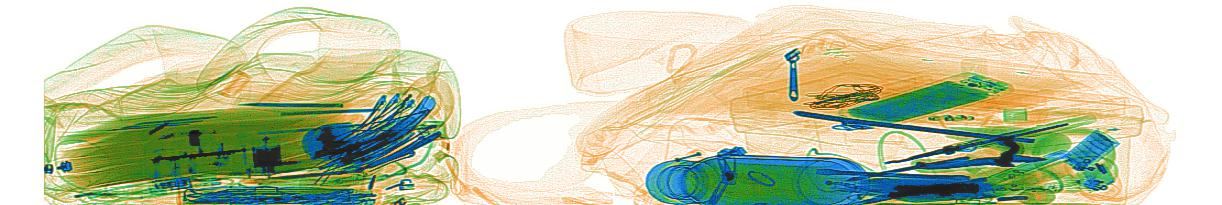battery: (1065, 127, 1118, 173)
scissors: (881, 110, 1097, 167)
